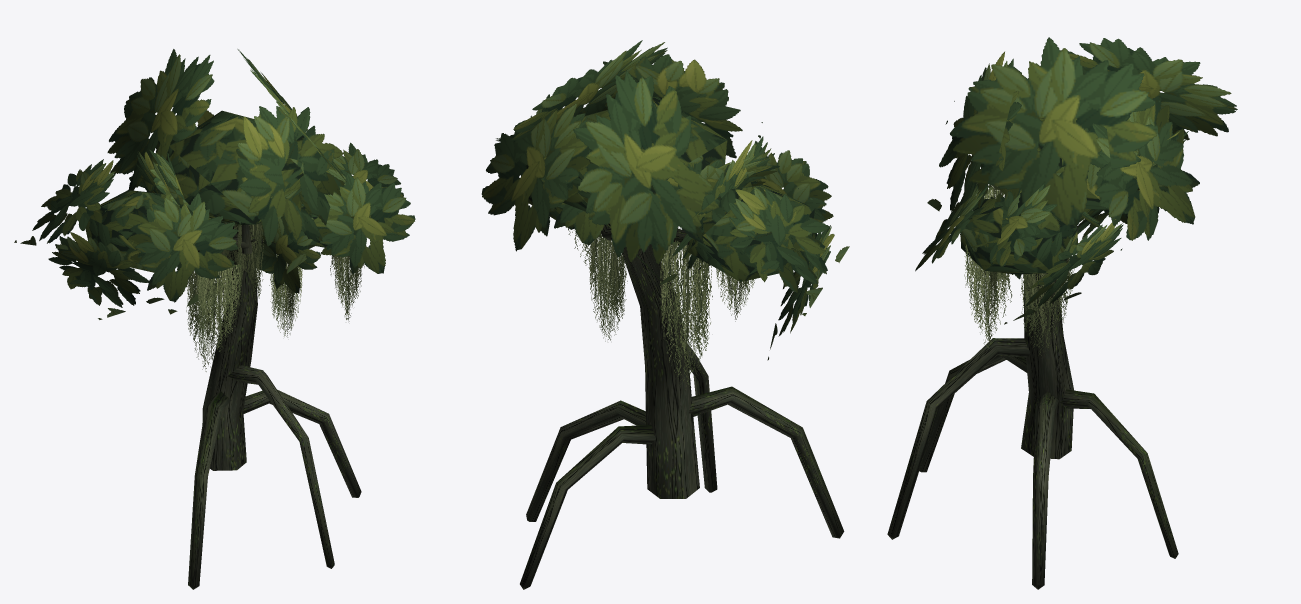
File: mirewell_bog_tree_a_lod1.glb
3 renders of one model, left to right at view 1: azimuth 30°, elevation 25°; view 2: azimuth 150°, elevation 25°; view 3: azimuth 270°, elevation 25°, orthographic. The views are drawn at different scales.
Parts seen in each view (by area): view 1: mirewell_bog_tree_a_lod1; view 2: mirewell_bog_tree_a_lod1; view 3: mirewell_bog_tree_a_lod1.
Boxes of the visible parts, <box> form: mirewell_bog_tree_a_lod1: <box>14,49,415,589</box>; mirewell_bog_tree_a_lod1: <box>481,40,849,589</box>; mirewell_bog_tree_a_lod1: <box>887,37,1237,589</box>.
Bounding box in the file's own units: 3.42 × 4.49 × 3.1.
3 materials, 3 textured.
